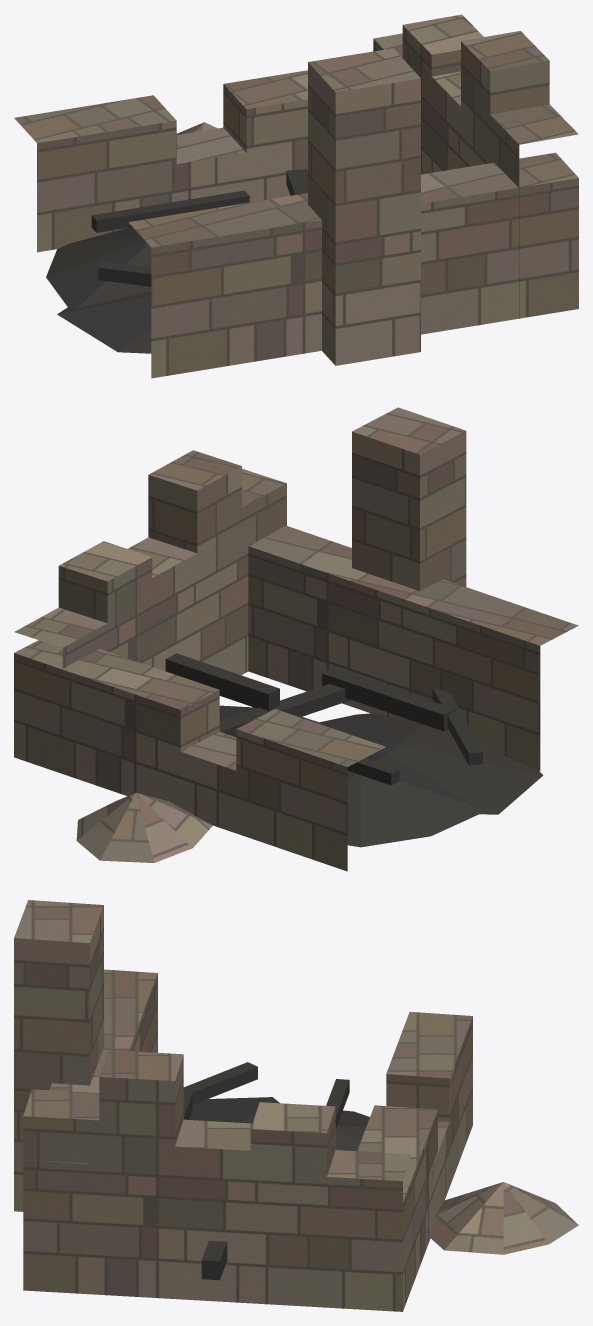
3 views of the same model, one above another, from view 1: azimuth 30°, elevation 25°; view 2: azimuth 150°, elevation 25°; view 3: azimuth 270°, elevation 25° (orthographic). The views are drawn at different scales.
Parts seen in each view (by area): view 1: b001083_ruin_wall, b001083_ruin_char; view 2: b001083_ruin_wall, b001083_ruin_char; view 3: b001083_ruin_wall, b001083_ruin_char.
Boxes of the visible parts, bbox=[...] form: b001083_ruin_wall: bbox=[14, 14, 578, 378]; b001083_ruin_char: bbox=[46, 169, 307, 353]; b001083_ruin_wall: bbox=[14, 407, 578, 871]; b001083_ruin_char: bbox=[165, 653, 543, 847]; b001083_ruin_wall: bbox=[14, 900, 578, 1311]; b001083_ruin_char: bbox=[183, 1062, 369, 1280].
Size of the model in its own units: 5.52 by 3.13 by 5.87.
Materials: 2 (1 with a texture image).
